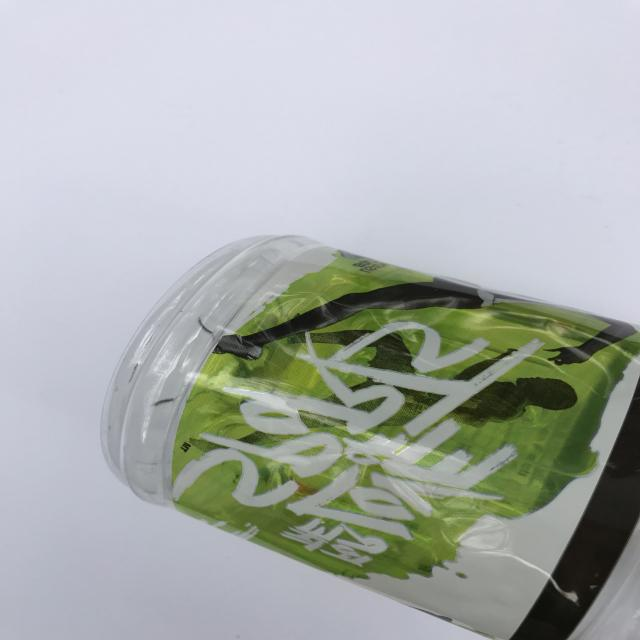plastic: (100, 233, 640, 638)
